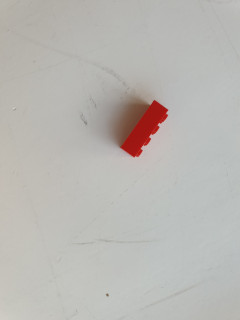2x4 red: (117, 99, 172, 160)
